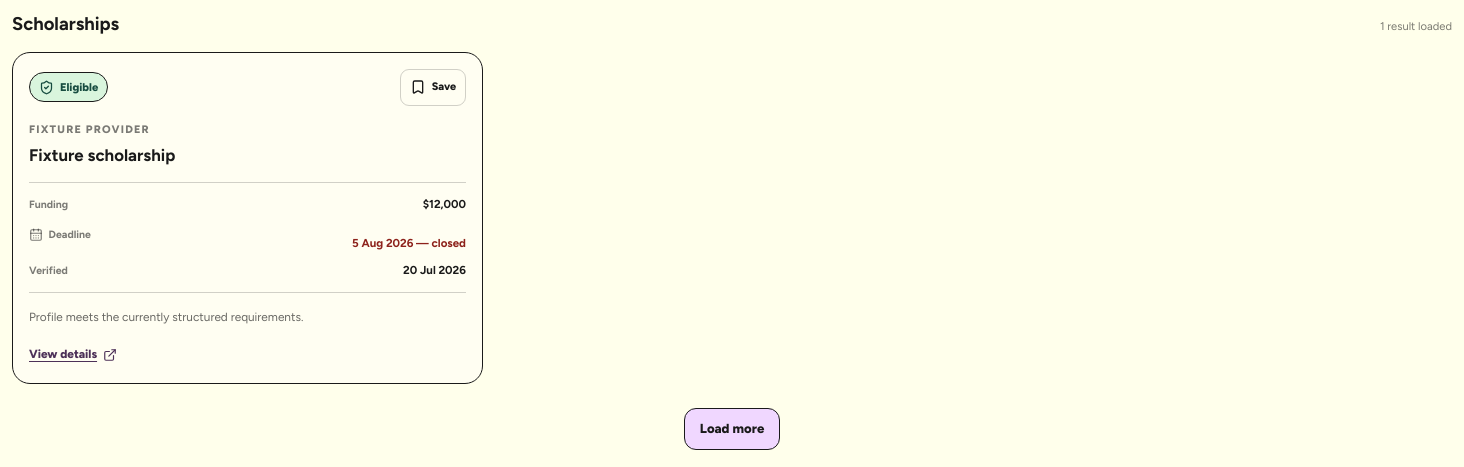
Scenario: scholarship discovery › loads the next real cursor page and appends it
The width and height of the screenshot is (1464, 467).
Click the button "Load more": (732, 429) [684,408,780,450]
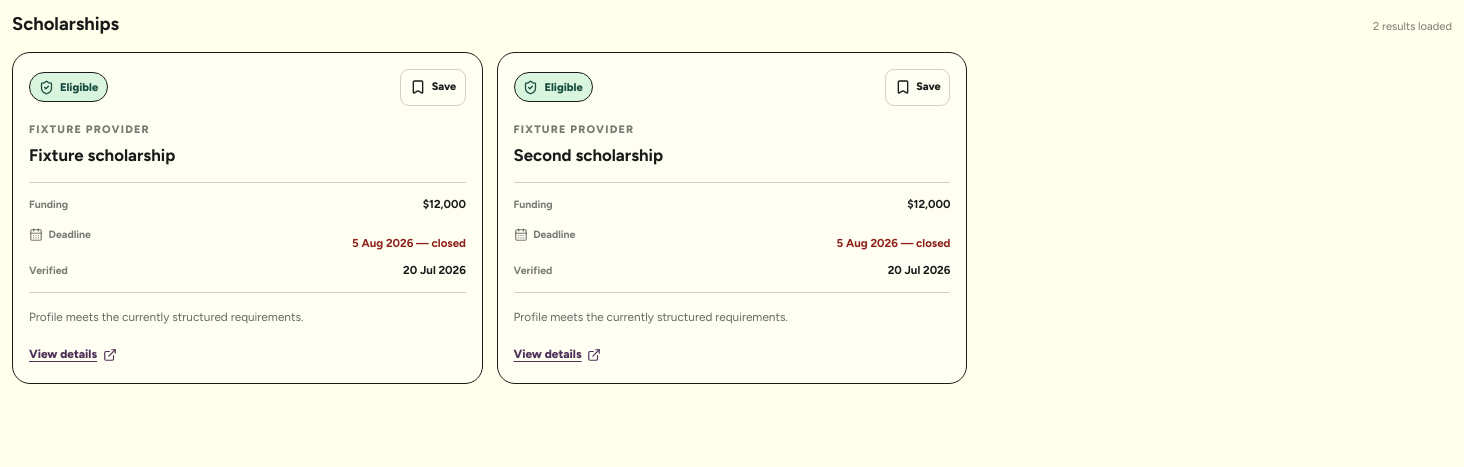
Check: the link "Second scholarship" is shown, box [514,145,663,165]
Check: the button "Load more" is gone
